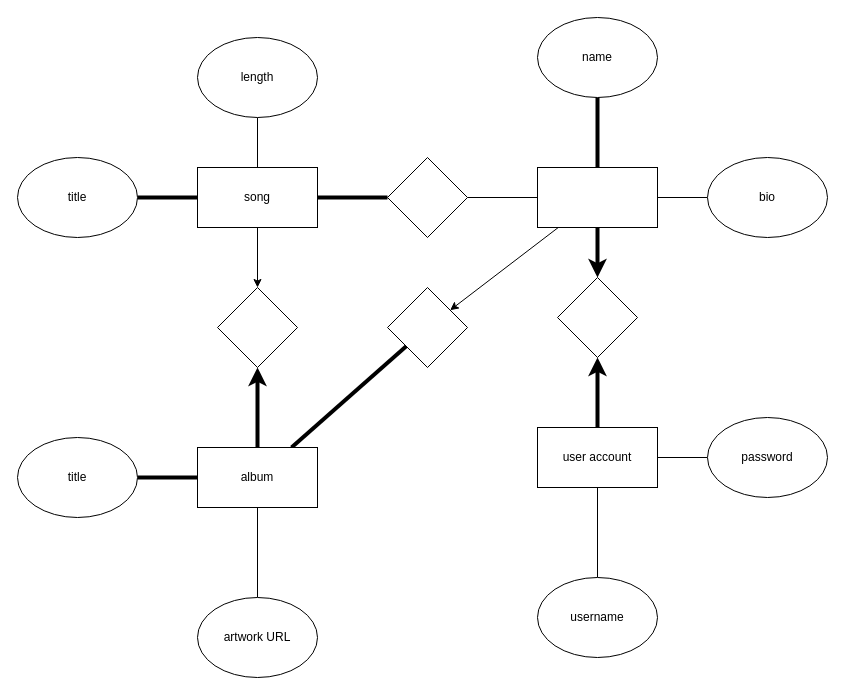
Image size: 845x695. Some labels were removed from this diagram. Each missing label, with the centre of its shape:
"artist" goes at [597,197].
"belongs to" goes at [427,327].
"beongs to" goes at [257,327].
"has a" goes at [597,317].
"written by" goes at [427,197].
